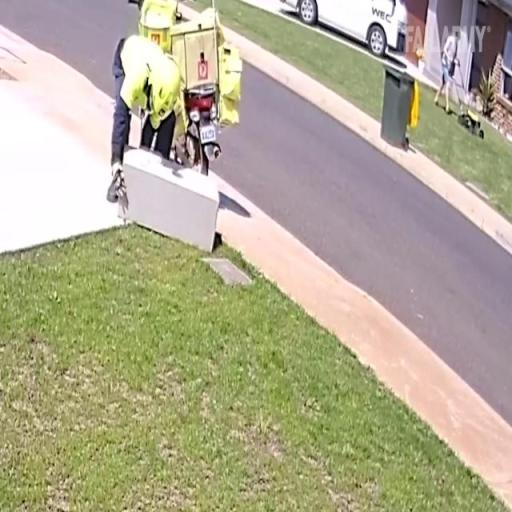Fall: (110, 30, 185, 204)
